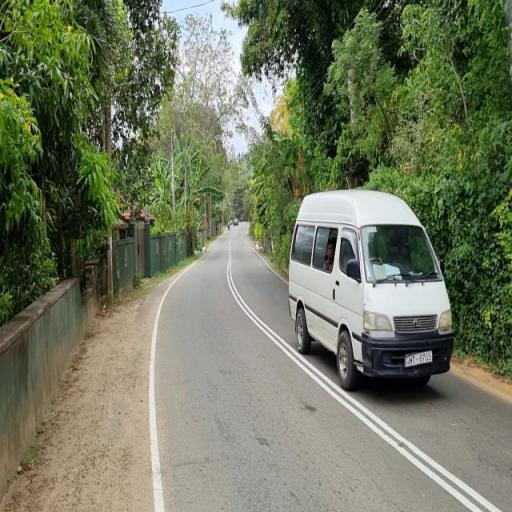double_white_line: (229, 238, 502, 512)
